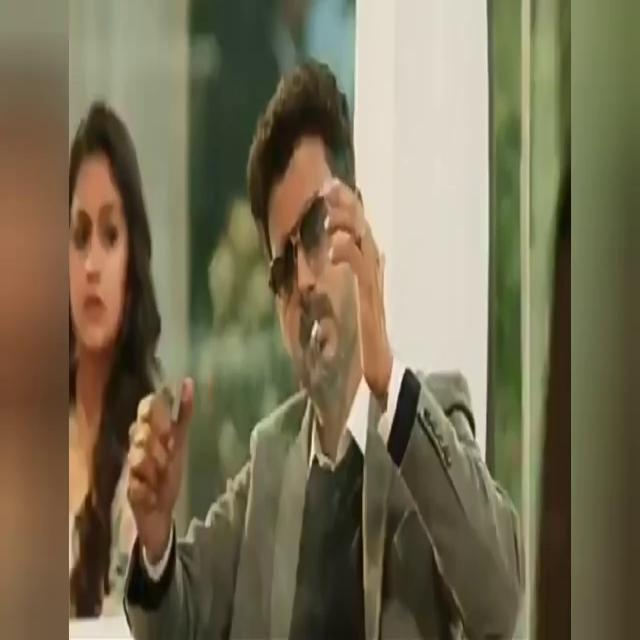smoking: (288, 331, 340, 335)
